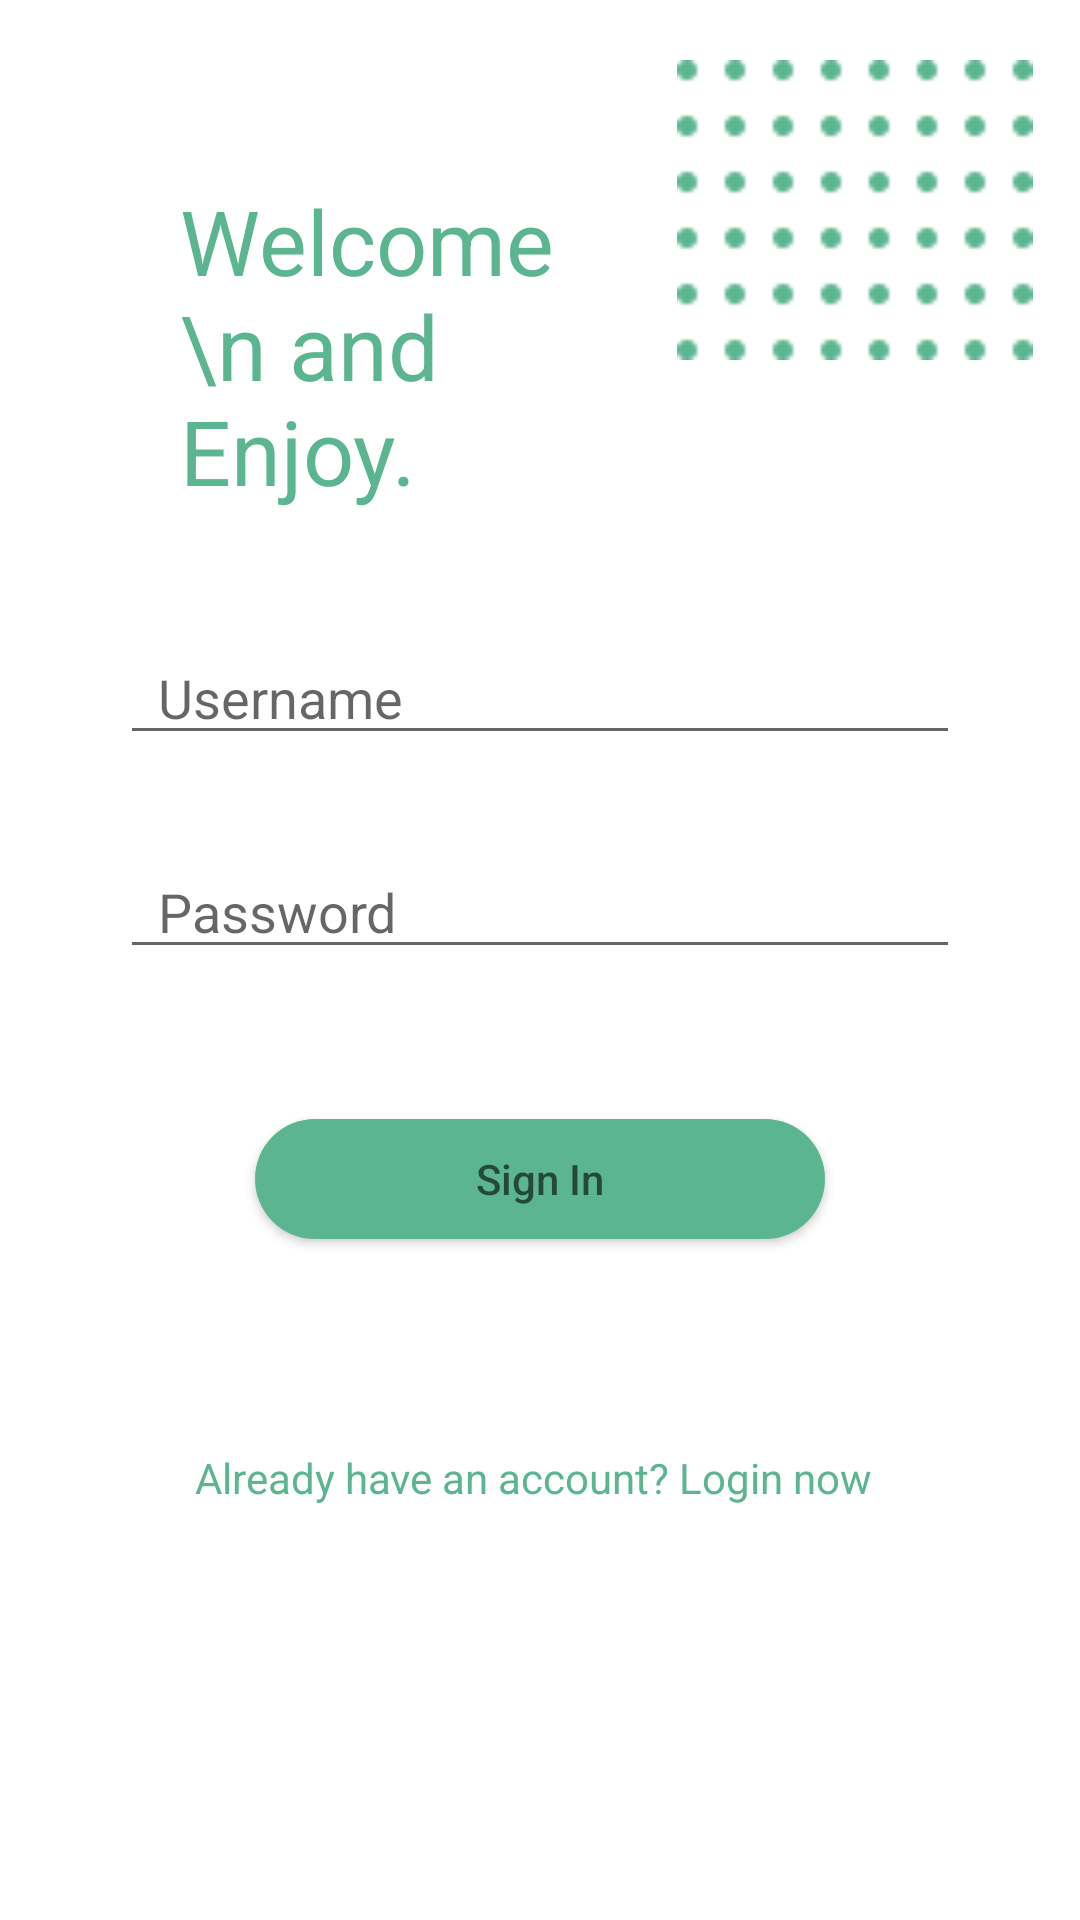

Screen size 1080 x 1920. Icon name, then its center in pixels as point (x, y):
titik: point (855, 210)
